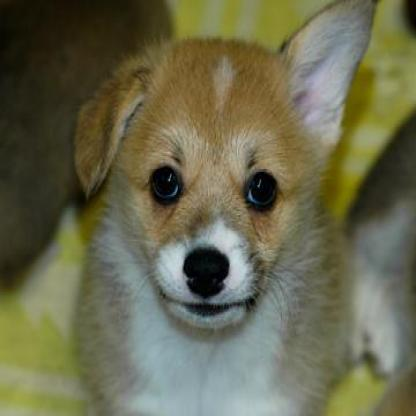Pembroke: (66, 4, 379, 413)
